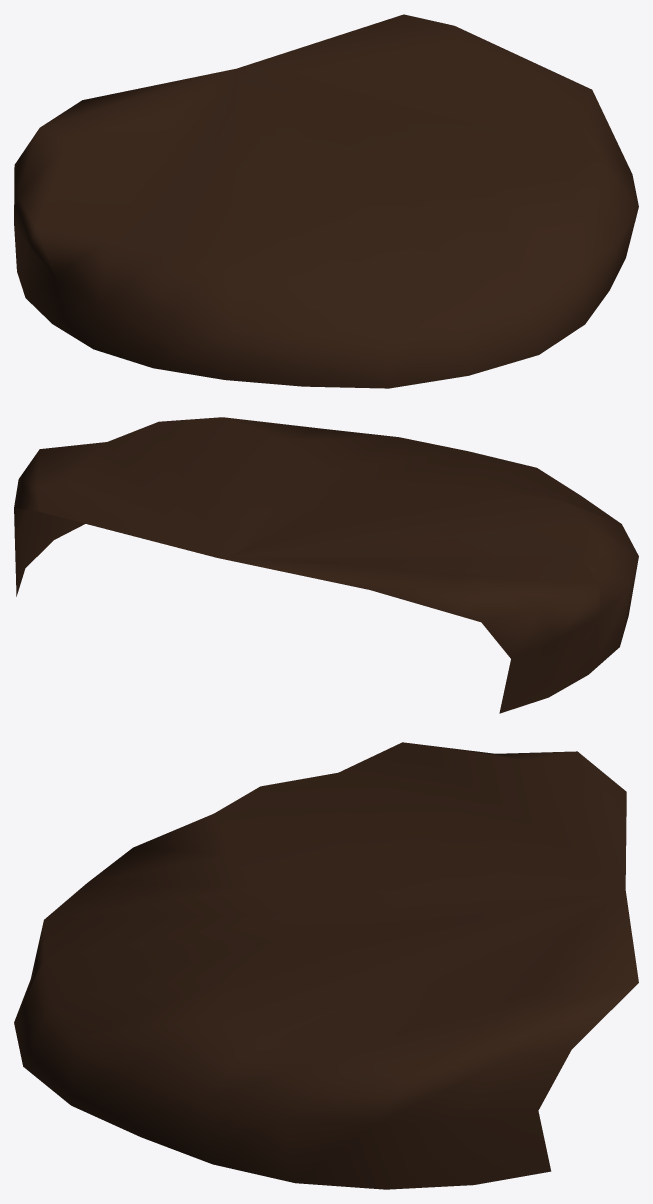
The model's file is abdomen_4_tergite.obj.
The picture shows the model from 3 angles, top to bottom: view 1: azimuth 30°, elevation 25°; view 2: azimuth 150°, elevation 25°; view 3: azimuth 270°, elevation 25°; orthographic projection. The views are drawn at different scales.
Bounding box in the file's own units: 0.0841 × 0.0182 × 0.067.
